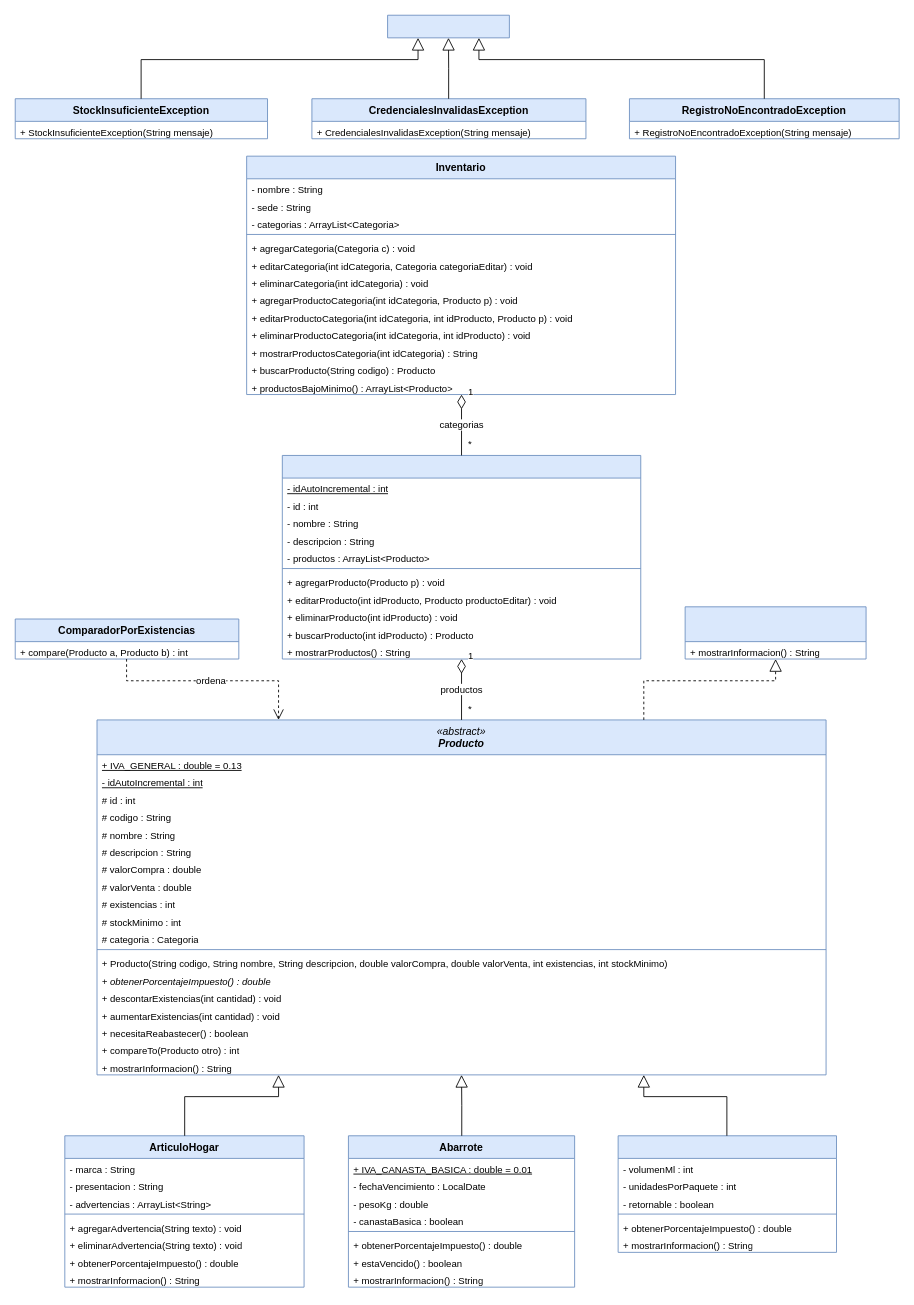
This 914x1305 diagram has some shape labels left out. The box of each missing label's shape, as (x1, y1, x2, y2) in pixels:
Bebida: (617, 1135, 837, 1252)
Categoria: (281, 455, 641, 659)
Exception: (387, 14, 509, 38)
«interface» Mostrable: (684, 606, 866, 659)
